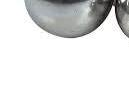ironball: (20, 0, 115, 42), (119, 0, 128, 48)
